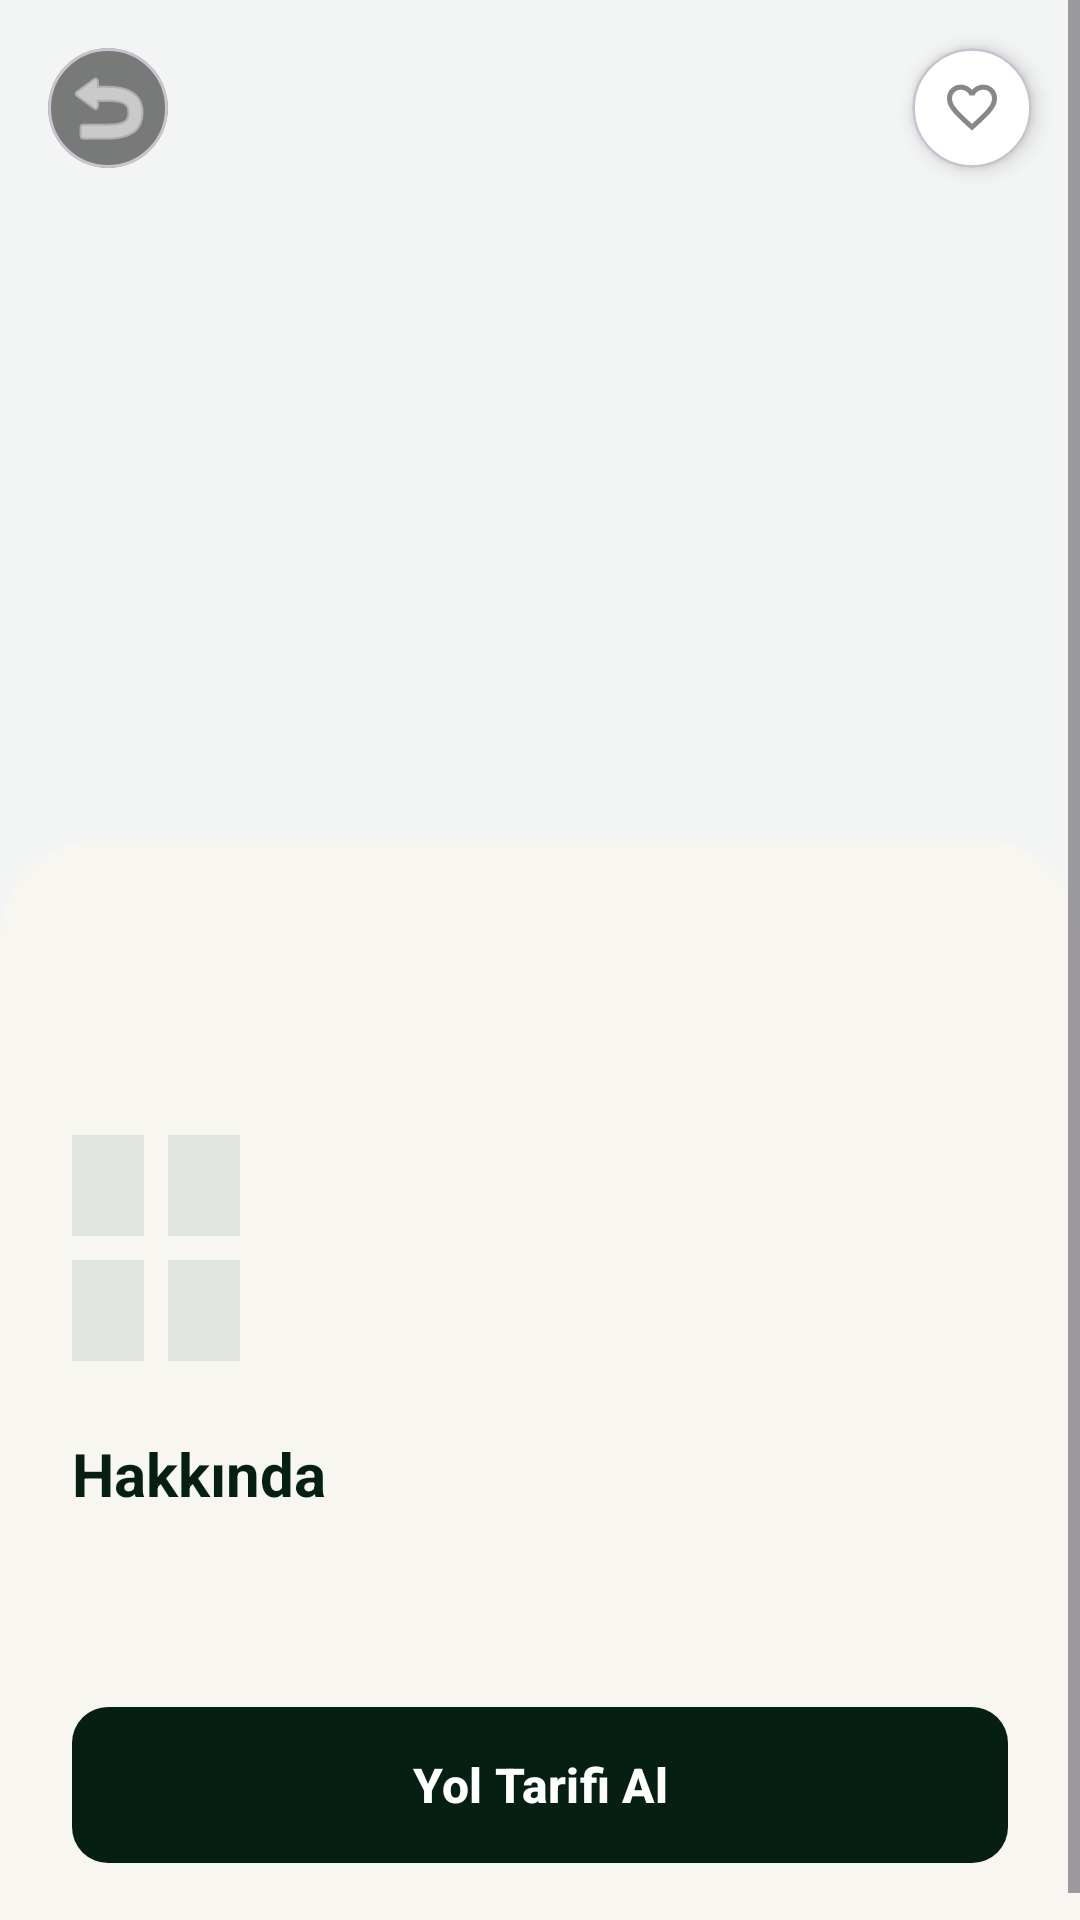

Where to tap for icons on this 1080 × 1920 app screen, as [x,y]:
heart: [972,107]
revert: [108,108]
